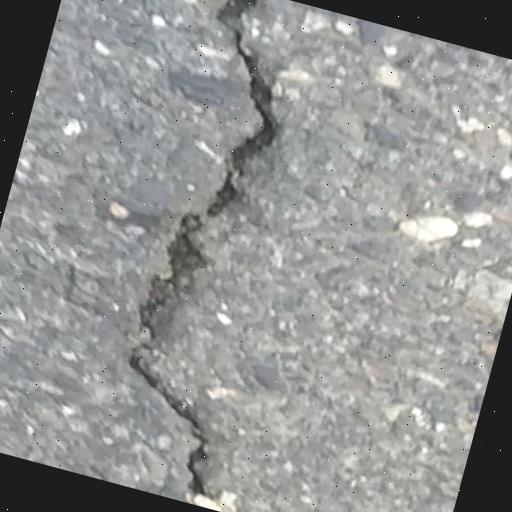spalling: (120, 0, 287, 496)
